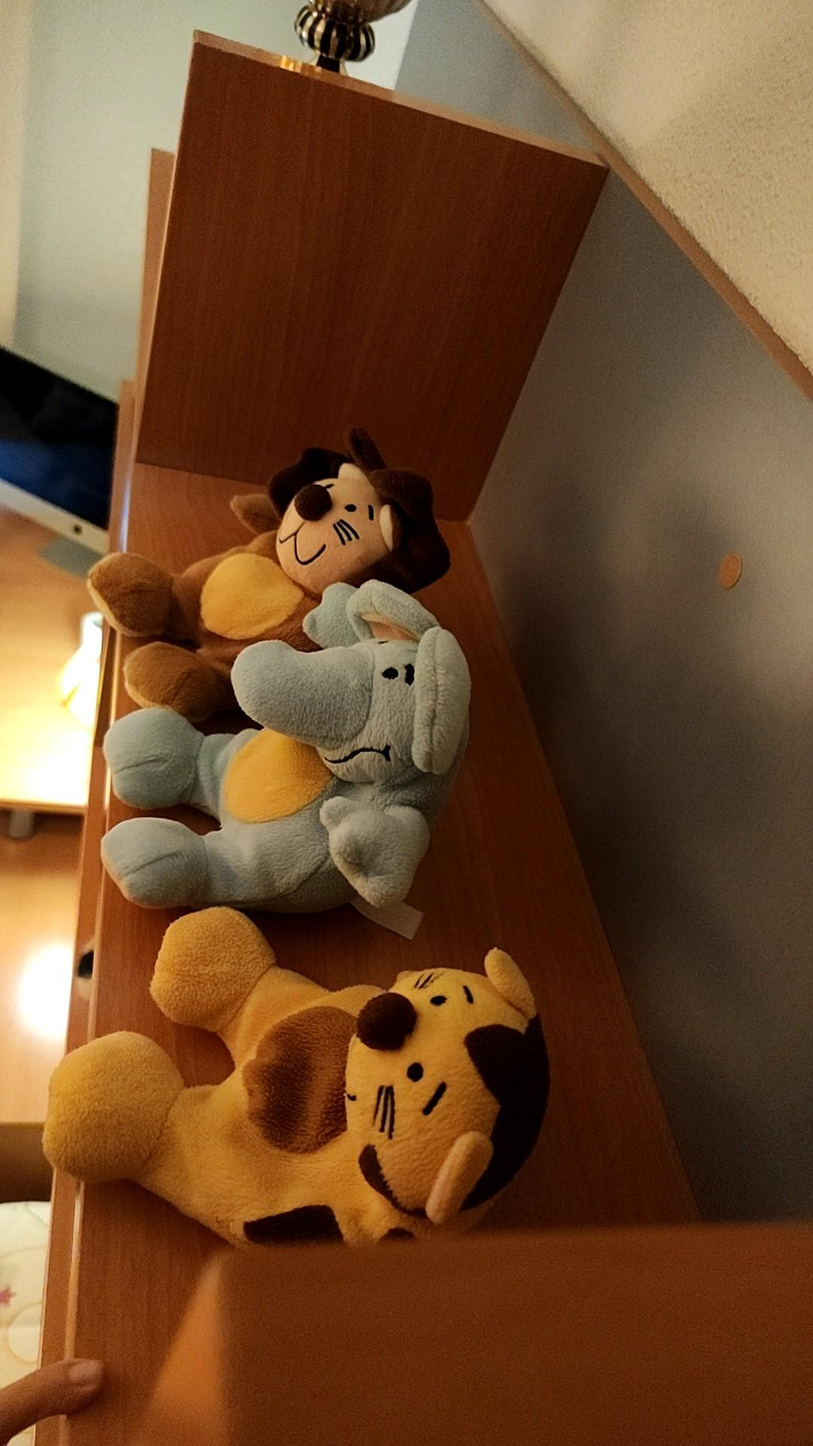toy: (44, 908, 549, 1244), (102, 581, 470, 912), (88, 429, 449, 722)
